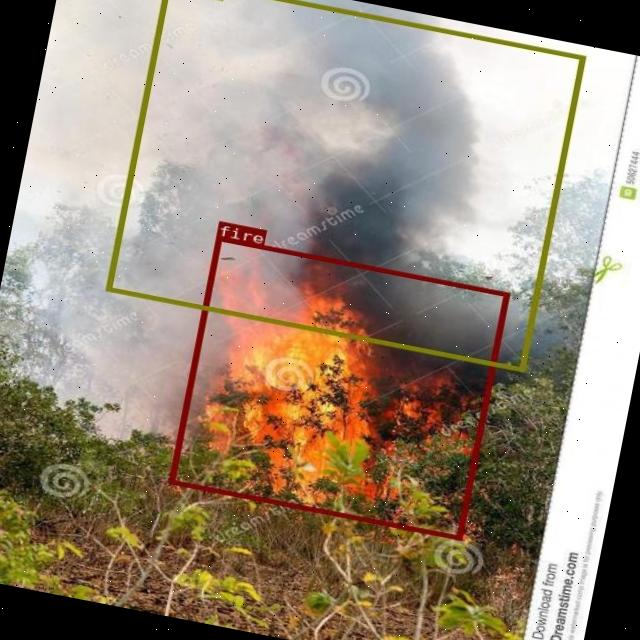fire: (167, 236, 508, 538)
smoke: (104, 0, 585, 372)
